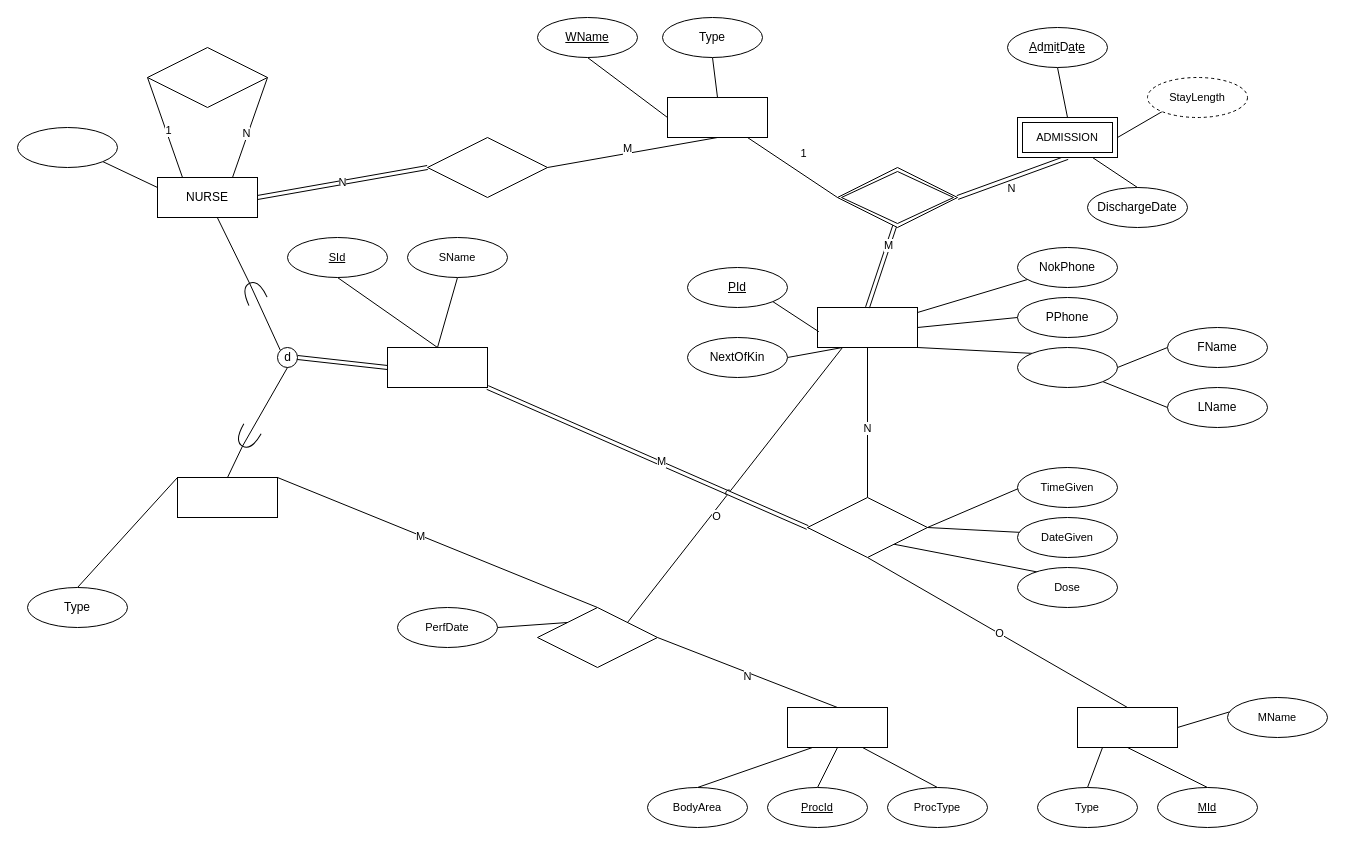
Image size: 1345x845. Some labels were removed from this diagram. Here are the shapes that lost their labels. From the top down, the box of each, then its label:
(146, 46, 268, 108): SUPERVISION
(666, 96, 768, 138): WARD
(16, 126, 118, 168): Level
(426, 136, 548, 198): ASSIGNED_TO
(836, 166, 958, 228): ADMITTED_TO
(816, 306, 918, 348): PATIENT
(386, 346, 488, 388): STAFF
(1016, 346, 1118, 388): PName
(176, 476, 278, 518): DOCTOR
(806, 496, 928, 558): GIVEN
(536, 606, 658, 668): PERFORMS
(786, 706, 888, 748): PROCEDURE
(1076, 706, 1178, 748): MEDICATION
